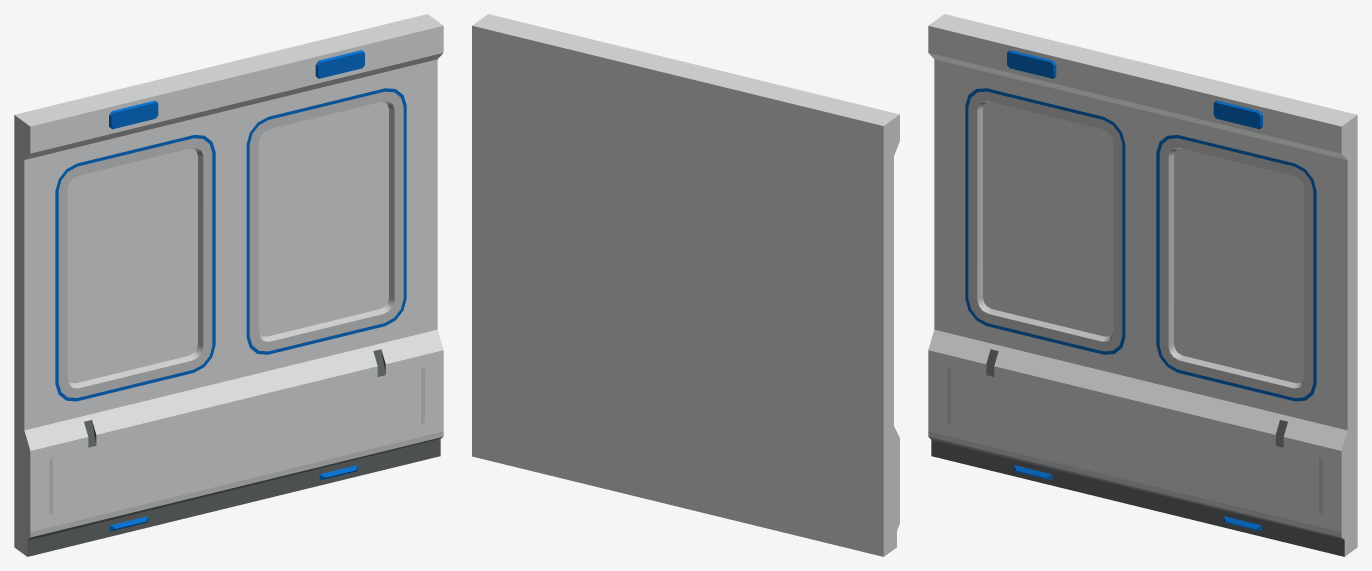
The model's file is Wall_type_A_017.fbx.
3 renders of one model, left to right at view 1: azimuth 30°, elevation 25°; view 2: azimuth 150°, elevation 25°; view 3: azimuth 330°, elevation 25°, orthographic.
Parts seen in each view (by area): view 1: Wall_type_A_017; view 2: Wall_type_A_017; view 3: Wall_type_A_017.
Part boxes in pixels (x1=…): Wall_type_A_017: x1=14, y1=14, x2=443, y2=556; Wall_type_A_017: x1=472, y1=14, x2=899, y2=556; Wall_type_A_017: x1=928, y1=14, x2=1357, y2=556.
Size of the model in its own units: 400 by 28.98 by 400.
